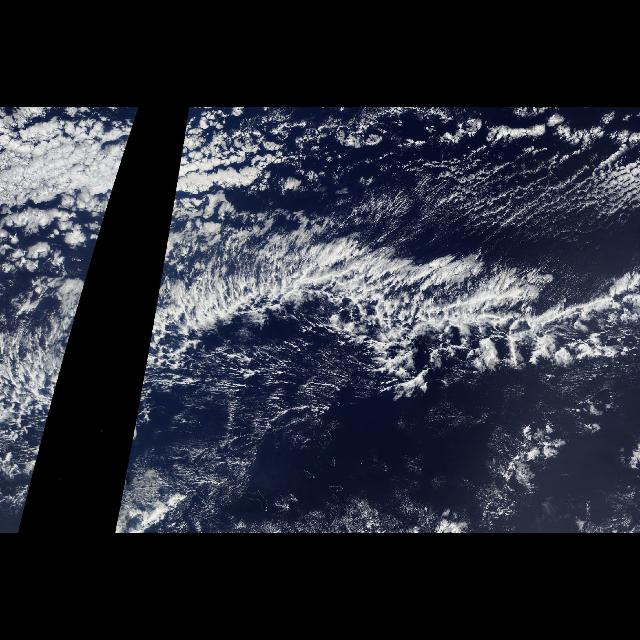Fish: (135, 220, 640, 424), (0, 251, 96, 425)
Sugar: (320, 158, 630, 242)
